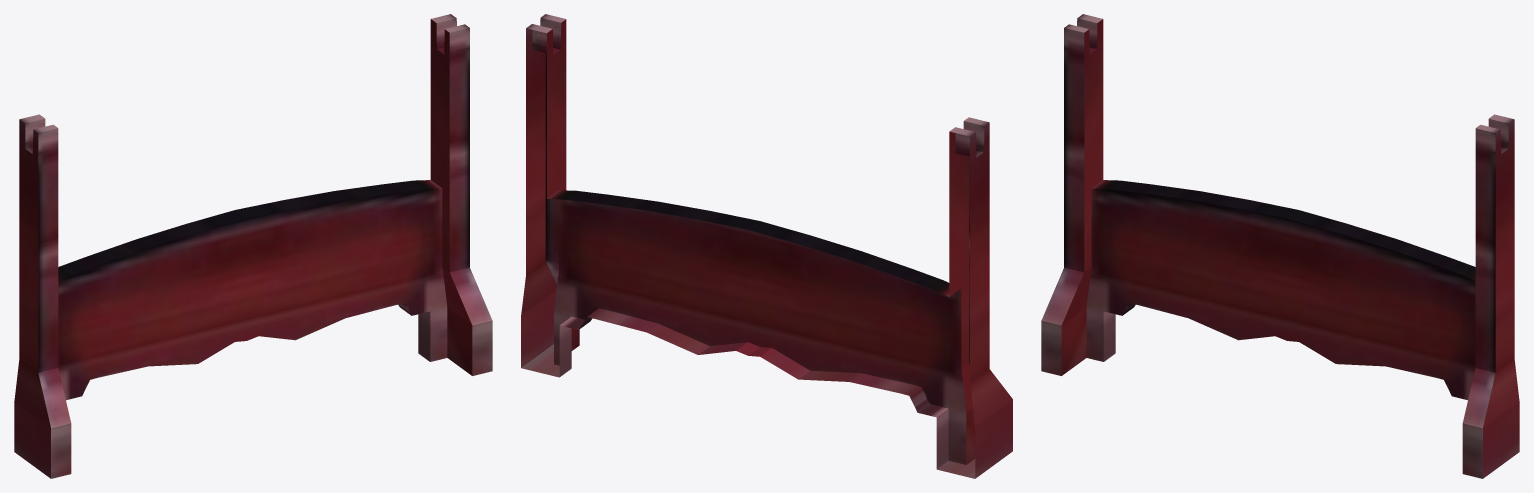
File: katana_holder_red.FBX
3 views of the same model, side by side, from view 1: azimuth 30°, elevation 25°; view 2: azimuth 150°, elevation 25°; view 3: azimuth 330°, elevation 25° (orthographic). The views are drawn at different scales.
Parts seen in each view (by area): view 1: katana_holder_red; view 2: katana_holder_red; view 3: katana_holder_red.
Part boxes in pixels (x1=…): katana_holder_red: x1=14, y1=14, x2=492, y2=478; katana_holder_red: x1=521, y1=14, x2=1012, y2=478; katana_holder_red: x1=1041, y1=14, x2=1519, y2=478.
Size of the model in its own units: 43.5 by 31.23 by 6.26.
